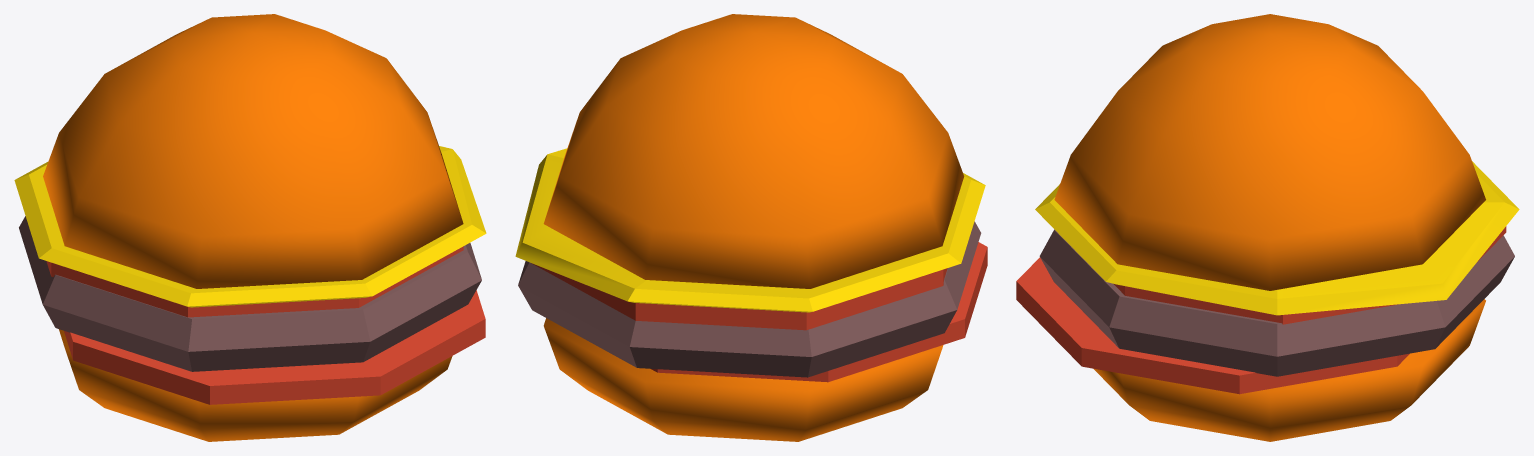
File: burger1.fbx
The picture shows the model from 3 angles, left to right: view 1: azimuth 30°, elevation 25°; view 2: azimuth 150°, elevation 25°; view 3: azimuth 270°, elevation 25°; orthographic projection.
Visible parts, largest first — view 1: Sphere.002, Sphere.004, Sphere.005, Sphere.006, Sphere.001, Sphere.003; view 2: Sphere.002, Sphere.004, Sphere.001, Sphere.006, Sphere.003, Sphere.005; view 3: Sphere.002, Sphere.004, Sphere.001, Sphere.006, Sphere.005, Sphere.003.
Boxes of the visible parts, x1,y1,x2,y2 form: Sphere.002: (43,14,463,288); Sphere.004: (19,216,481,371); Sphere.005: (64,290,485,404); Sphere.006: (14,146,486,307); Sphere.001: (59,329,452,441); Sphere.003: (46,246,463,317); Sphere.002: (543,14,964,288); Sphere.004: (518,221,981,377); Sphere.001: (543,318,943,441); Sphere.006: (515,148,985,312); Sphere.003: (531,263,947,330); Sphere.005: (650,242,987,382); Sphere.002: (1054,14,1485,290); Sphere.004: (1039,229,1514,376); Sphere.001: (1093,299,1485,441); Sphere.006: (1035,161,1519,315); Sphere.005: (1016,257,1409,394); Sphere.003: (1114,226,1506,324).
Bounding box in the file's own units: 140 × 107 × 146.
Materials: 1 (1 with a texture image).
